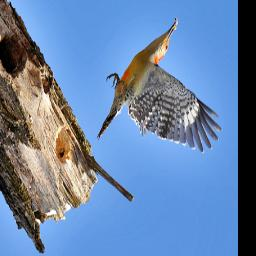Woodpecker: (96, 16, 223, 155)
